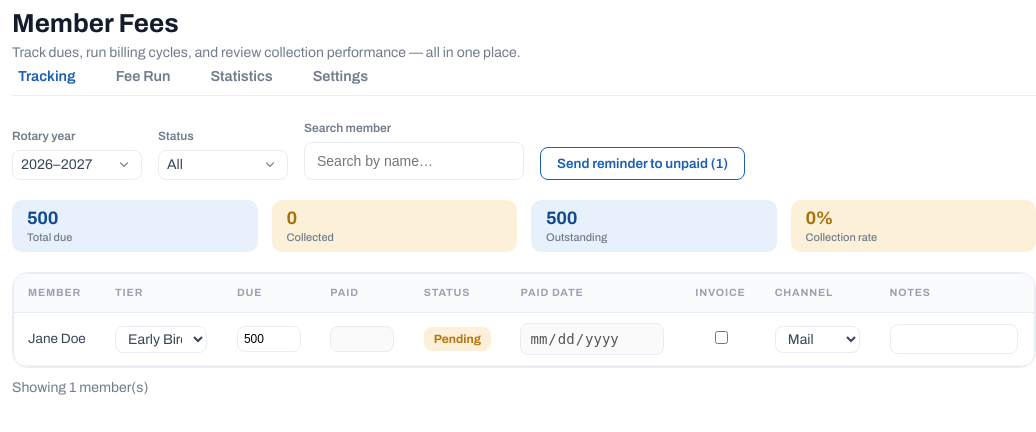
it: MemberFees › Tracking tab › sends a reminder to unpaid members
Click the button "Send reminder to unpaid (1)" at (642, 164), box [540,147,745,180]
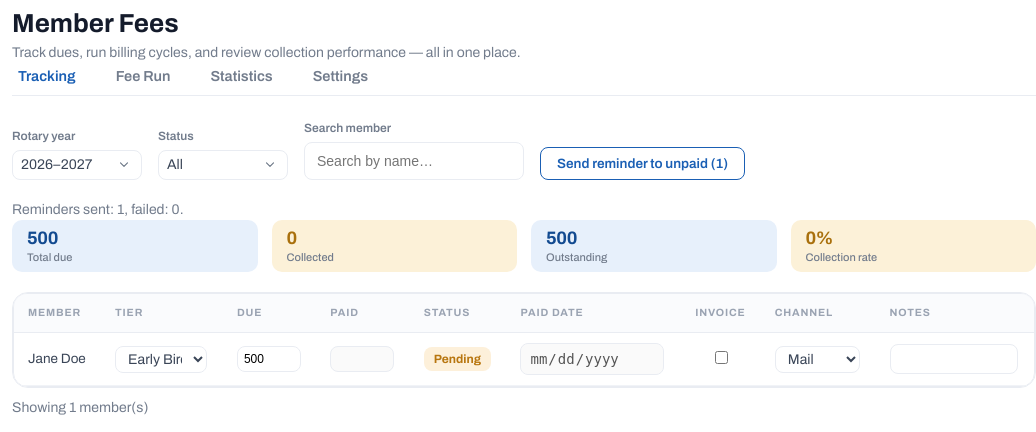
Expected: the text "Reminders sent: 1, failed: 0." is shown, [12,202,184,217]
